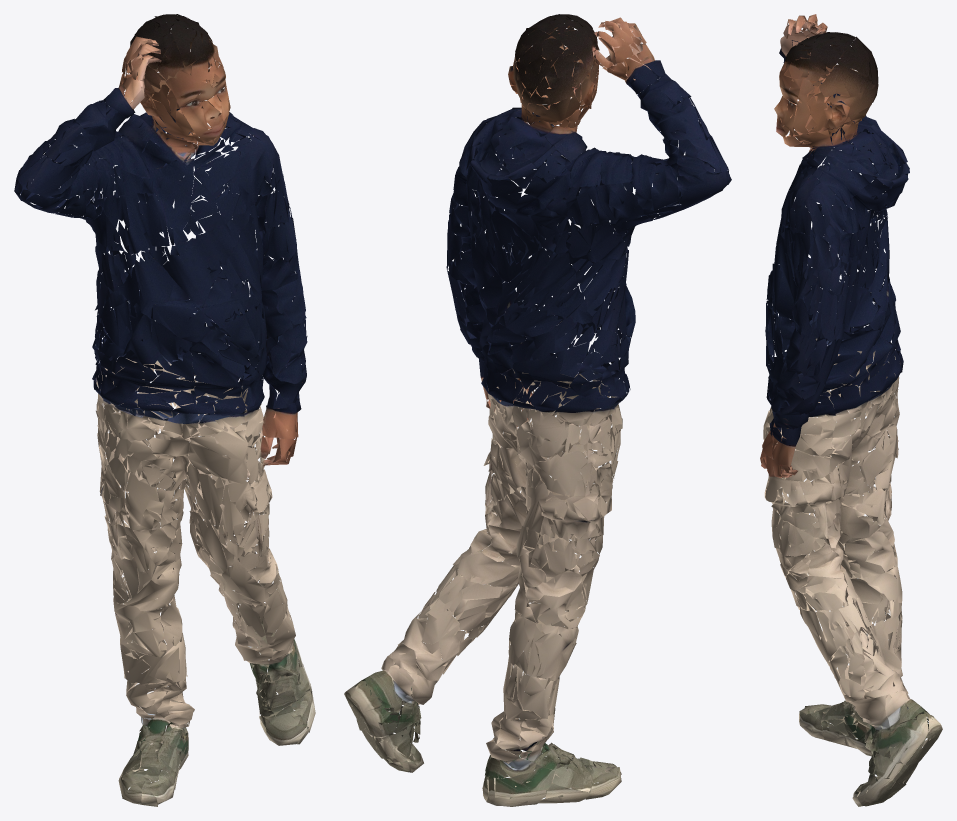
Rendered from casual.glb.
3 renders of one model, left to right at view 1: azimuth 30°, elevation 25°; view 2: azimuth 150°, elevation 25°; view 3: azimuth 270°, elevation 25°, orthographic. The views are drawn at different scales.
Parts seen in each view (by area): view 1: mesh_0.001; view 2: mesh_0.001; view 3: mesh_0.001.
Part boxes in pixels (x1,y1,x2,y2): mesh_0.001: [14, 14, 315, 806]; mesh_0.001: [344, 14, 731, 806]; mesh_0.001: [760, 14, 942, 806].
Size of the model in its own units: 0.8061 by 1.78 by 0.4163.
Materials: 1 (1 with a texture image).
